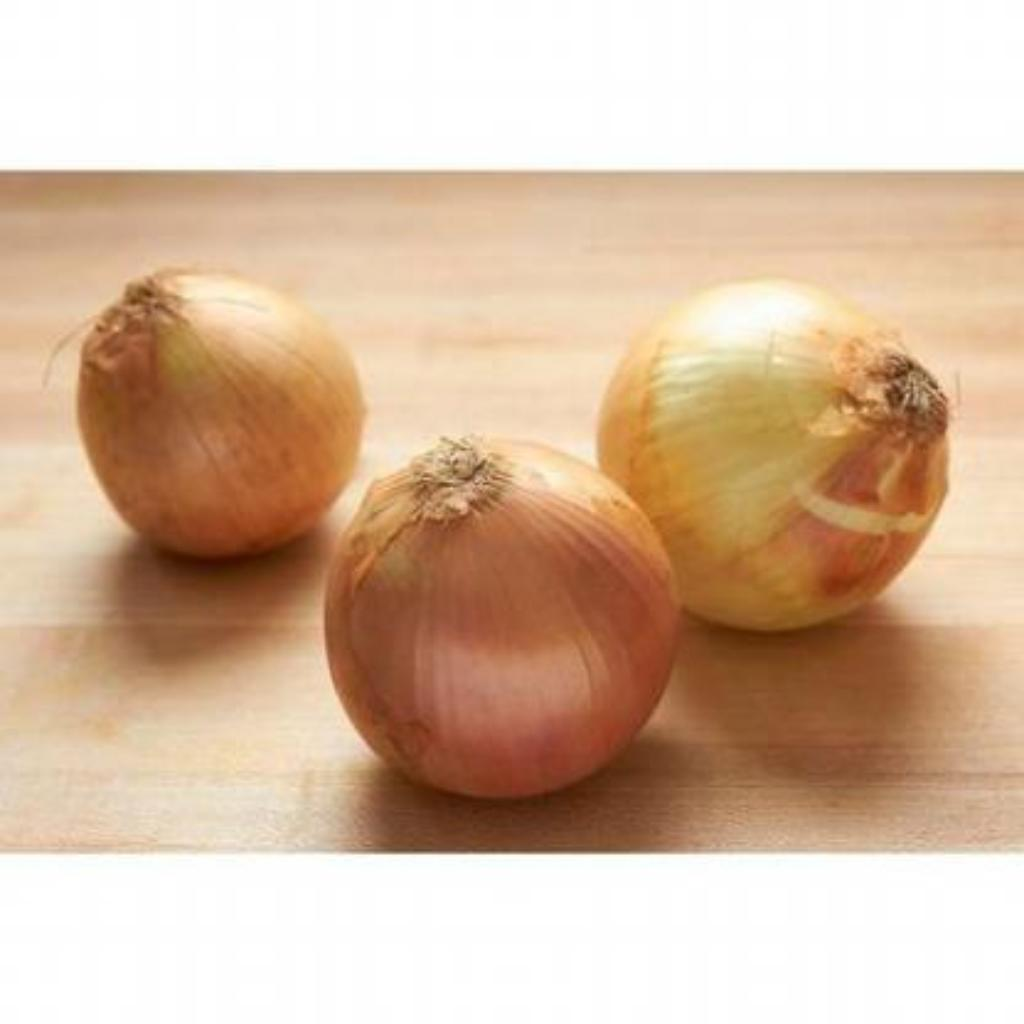Onion: (325, 438, 679, 800), (601, 281, 953, 631), (79, 271, 364, 558)
